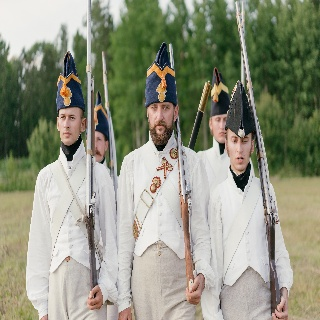rifle: (234, 2, 284, 316), (167, 41, 200, 294), (81, 1, 101, 298)
